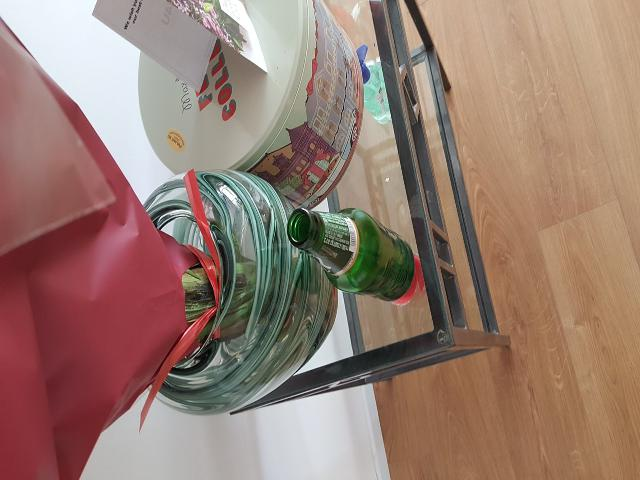beer: (287, 207, 414, 302)
